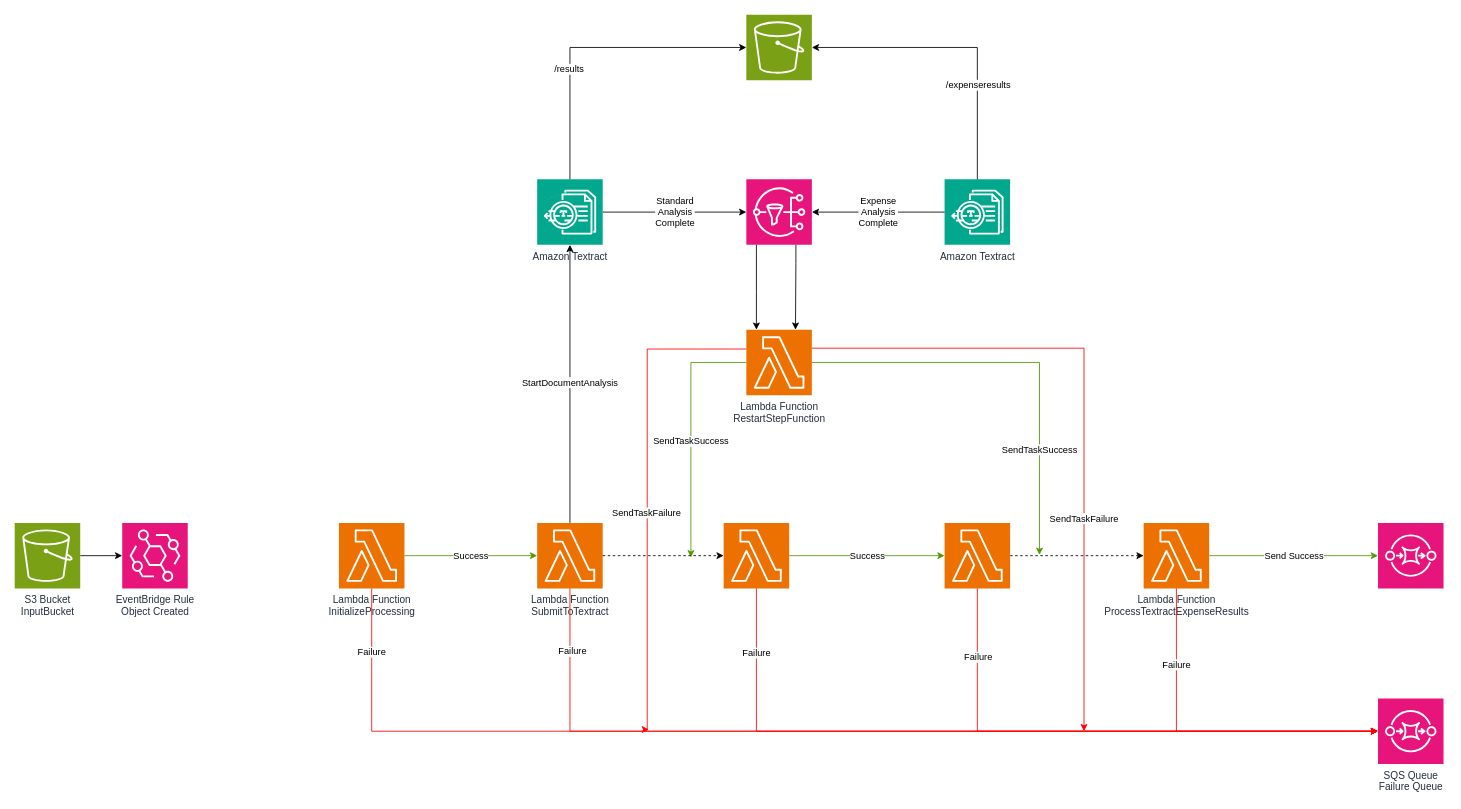
Some shapes in this 1461 by 809 pixel diagram are drawn without their labels. Here are the shapes that lost their labels. From the top down, the box of each, then its label:
(746, 14, 812, 80): S3 Bucket textractBucket
(746, 178, 812, 245): SNS Topic TextractSuccessTopic
(723, 522, 789, 588): Lambda Function ProcessTextractQueryResult
(944, 522, 1010, 588): Lambda Function SubmitToTextractExpense
(1377, 522, 1444, 588): SQS Queue Success Queue
